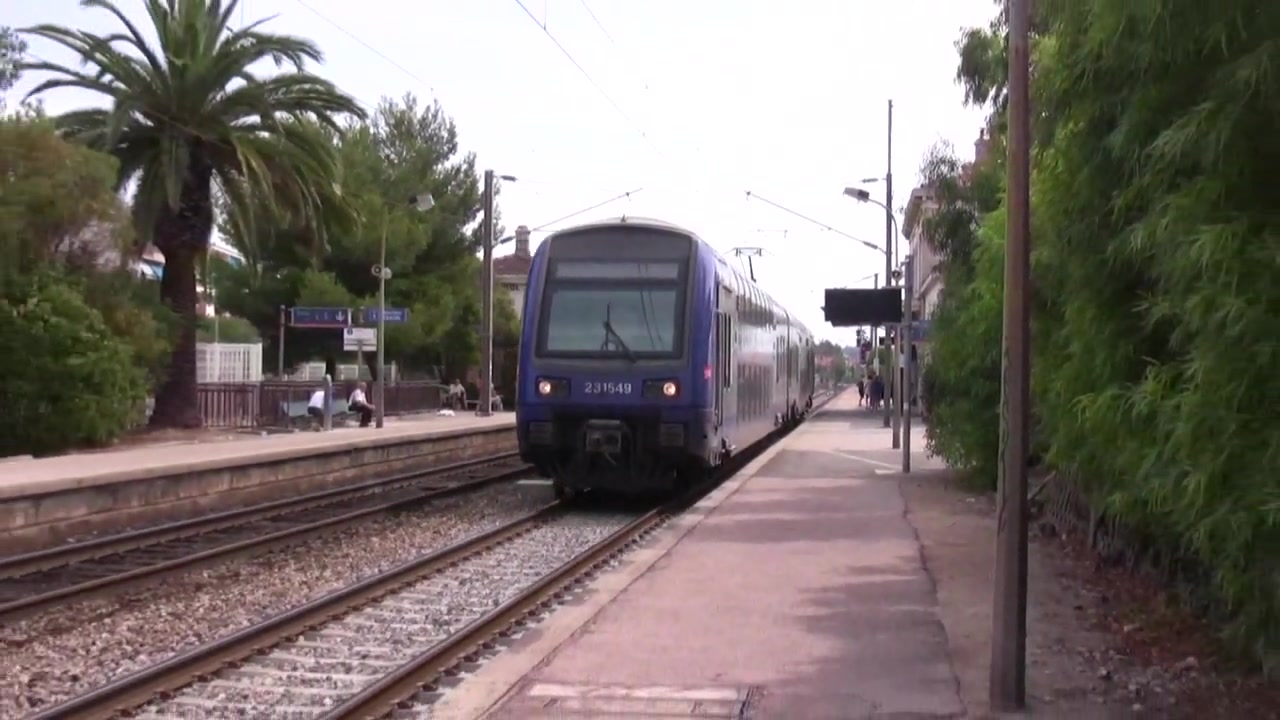train: (513, 223, 821, 499)
